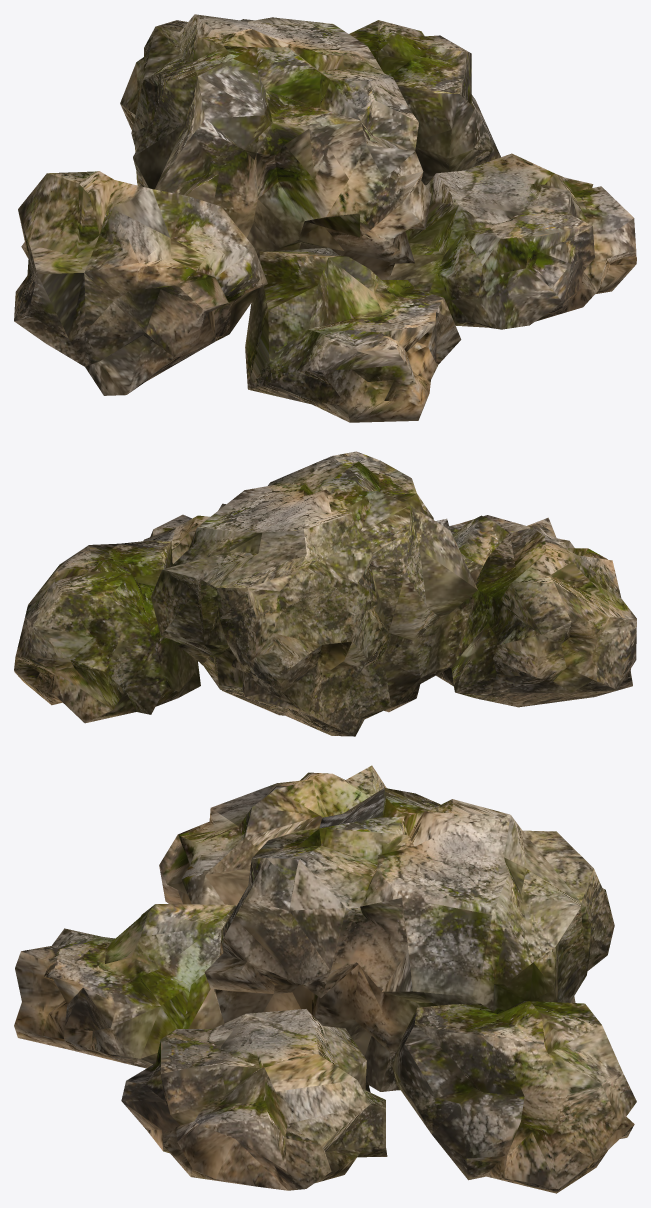
Rendered from ROC_RocaTropical_01_LOD1.fbx.
The picture shows the model from 3 angles, top to bottom: view 1: azimuth 30°, elevation 25°; view 2: azimuth 150°, elevation 25°; view 3: azimuth 270°, elevation 25°; orthographic projection. The views are drawn at different scales.
Parts seen in each view (by area): view 1: ROC_RocaTropical_01_Mesh000; view 2: ROC_RocaTropical_01_Mesh000; view 3: ROC_RocaTropical_01_Mesh000.
Part boxes in pixels (bbox=[...]): ROC_RocaTropical_01_Mesh000: bbox=[14, 14, 636, 422]; ROC_RocaTropical_01_Mesh000: bbox=[14, 451, 636, 736]; ROC_RocaTropical_01_Mesh000: bbox=[14, 765, 636, 1193].
Size of the model in its own units: 1.4 by 0.5563 by 1.28.
